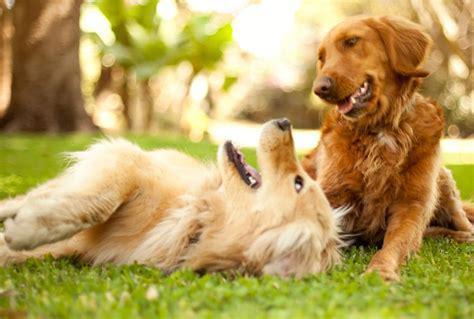dog: (1, 118, 337, 275), (307, 15, 474, 281)
